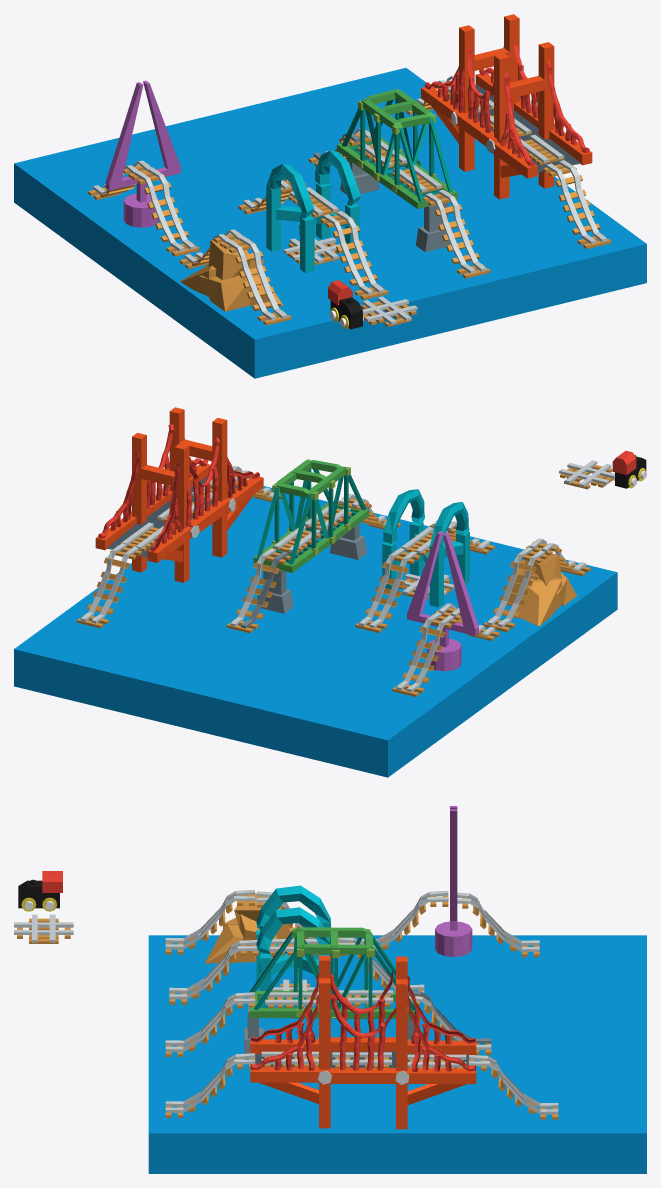
File: 3GQlwrbGZhL.glb
3 renders of one model, top to bottom at view 1: azimuth 30°, elevation 25°; view 2: azimuth 150°, elevation 25°; view 3: azimuth 270°, elevation 25°, orthographic. The views are drawn at different scales.
Visible parts, largest first — view 1: group1467921773, group1555632421, group1791815828, group1684818294, group951228475, group1278398047, group2057588976, group110484751, group1487575372, group913480861, group794506275, group219408853 (+14 smaller); view 2: group1467921773, group1555632421, group1791815828, group1636898949, group1207041164, group1836019306, group747148613, group1871458826, group2075450089, group595164844, group1985412416, group794506275 (+12 smaller); view 3: group1467921773, group1555632421, group1791815828, group913480861, group110484751, group219408853, group1278398047, group1684818294, group951228475, group1836019306, group595164844, group747148613 (+10 smaller).
Boxes of the visible parts, x1,y1,x2,y2 form: group1467921773: (14,68,646,378); group1555632421: (421,14,592,199); group1791815828: (378,101,457,252); group1684818294: (320,211,388,299); group951228475: (543,160,611,249); group1278398047: (223,236,291,325); group2057588976: (131,167,199,256); group110484751: (423,189,490,278); group1487575372: (199,275,249,311); group913480861: (328,280,363,329); group794506275: (105,82,143,184); group219408853: (266,164,314,218); group1467921773: (14,486,617,777); group1555632421: (95,407,263,582); group1791815828: (291,459,369,559); group1636898949: (355,548,420,632); group1207041164: (226,548,290,633); group1836019306: (77,543,141,628); group747148613: (392,612,457,696); group1871458826: (483,547,548,632); group2075450089: (516,577,561,625); group595164844: (383,489,424,543); group1985412416: (559,460,614,489); group794506275: (443,532,478,629); group1467921773: (148,935,646,1173); group1555632421: (250,955,476,1129); group1791815828: (244,927,336,1058); group913480861: (18,871,62,911); group110484751: (165,992,255,1056); group219408853: (256,885,330,929); group1278398047: (165,889,255,954); group1684818294: (169,939,258,1004); group951228475: (165,1053,255,1117); group1836019306: (468,1055,558,1119); group595164844: (256,907,329,954); group747148613: (457,892,539,956).
Bounding box in the file's own units: 1.26 × 0.55 × 1.7.
